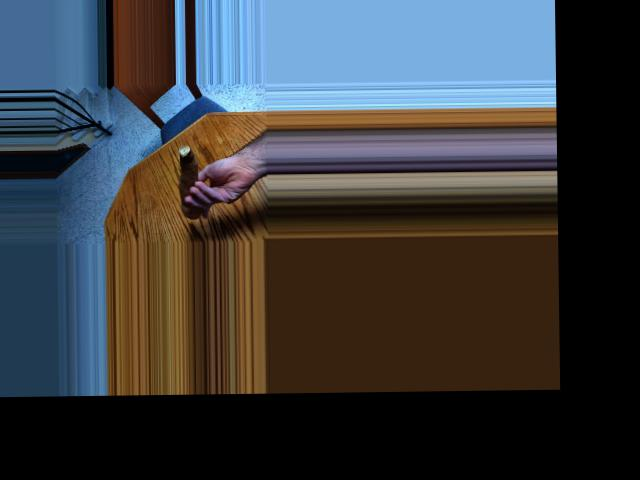sweet_potato: (180, 143, 196, 207)
